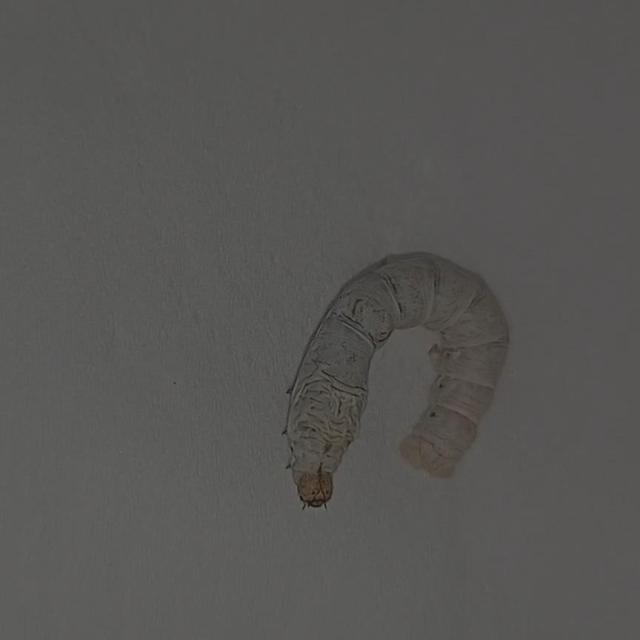Healthy: (273, 243, 513, 525)
